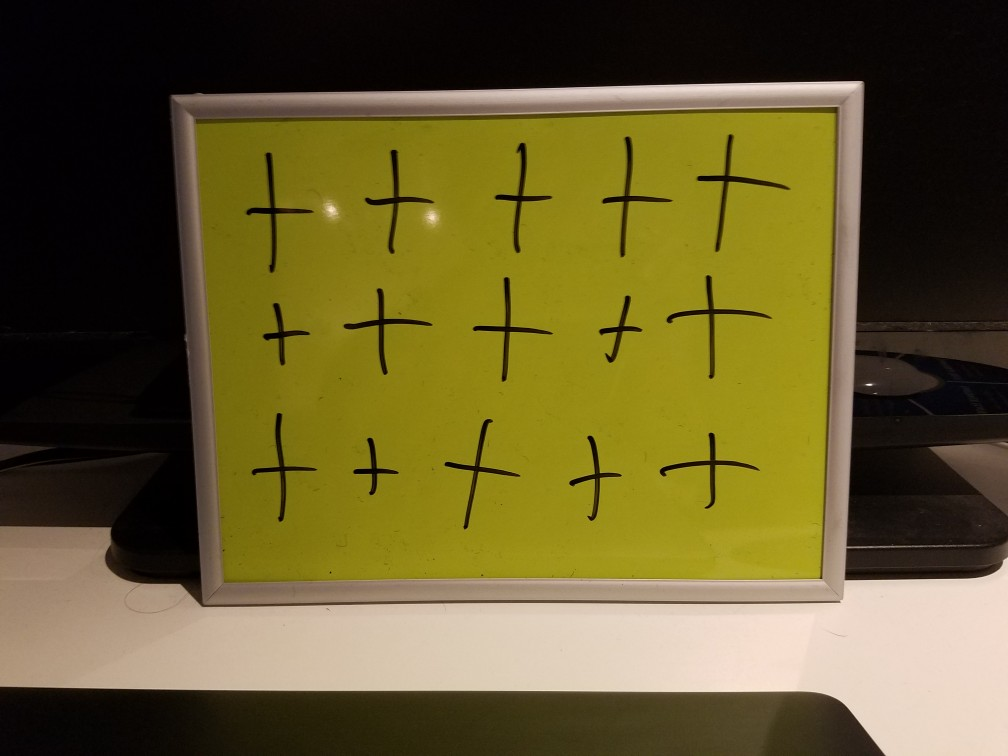+: (664, 271, 776, 413), (688, 115, 794, 257), (654, 417, 766, 550), (575, 123, 676, 266), (430, 405, 530, 540), (350, 146, 451, 268), (459, 269, 554, 385), (227, 152, 315, 275), (474, 133, 560, 257), (333, 286, 430, 382), (250, 407, 323, 532), (571, 417, 624, 532), (246, 295, 316, 382), (594, 281, 648, 368), (341, 432, 401, 510)
